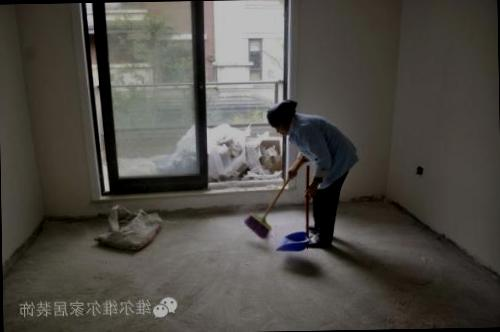no_helmet: (266, 98, 298, 141)
